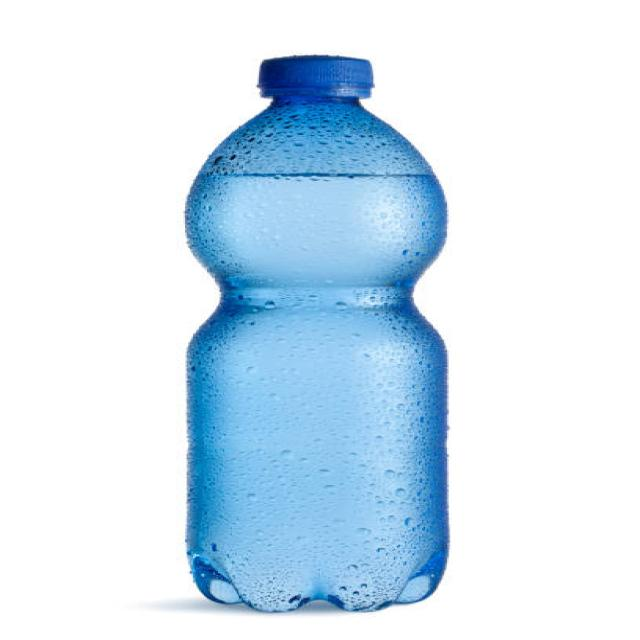blue_bottle: (174, 41, 473, 620)
